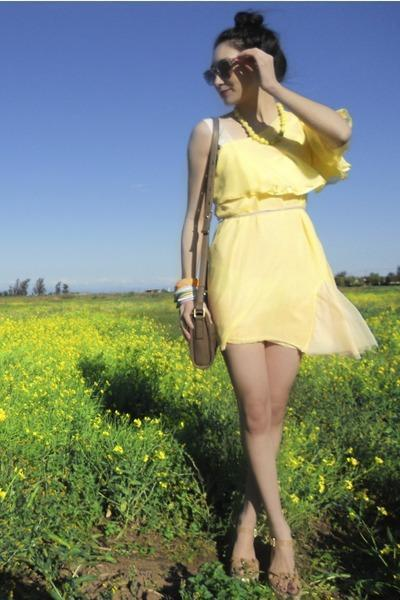bag: (188, 157, 231, 370)
dress: (204, 110, 371, 358)
shoe: (232, 550, 308, 599)
sunglass: (204, 60, 233, 95)
